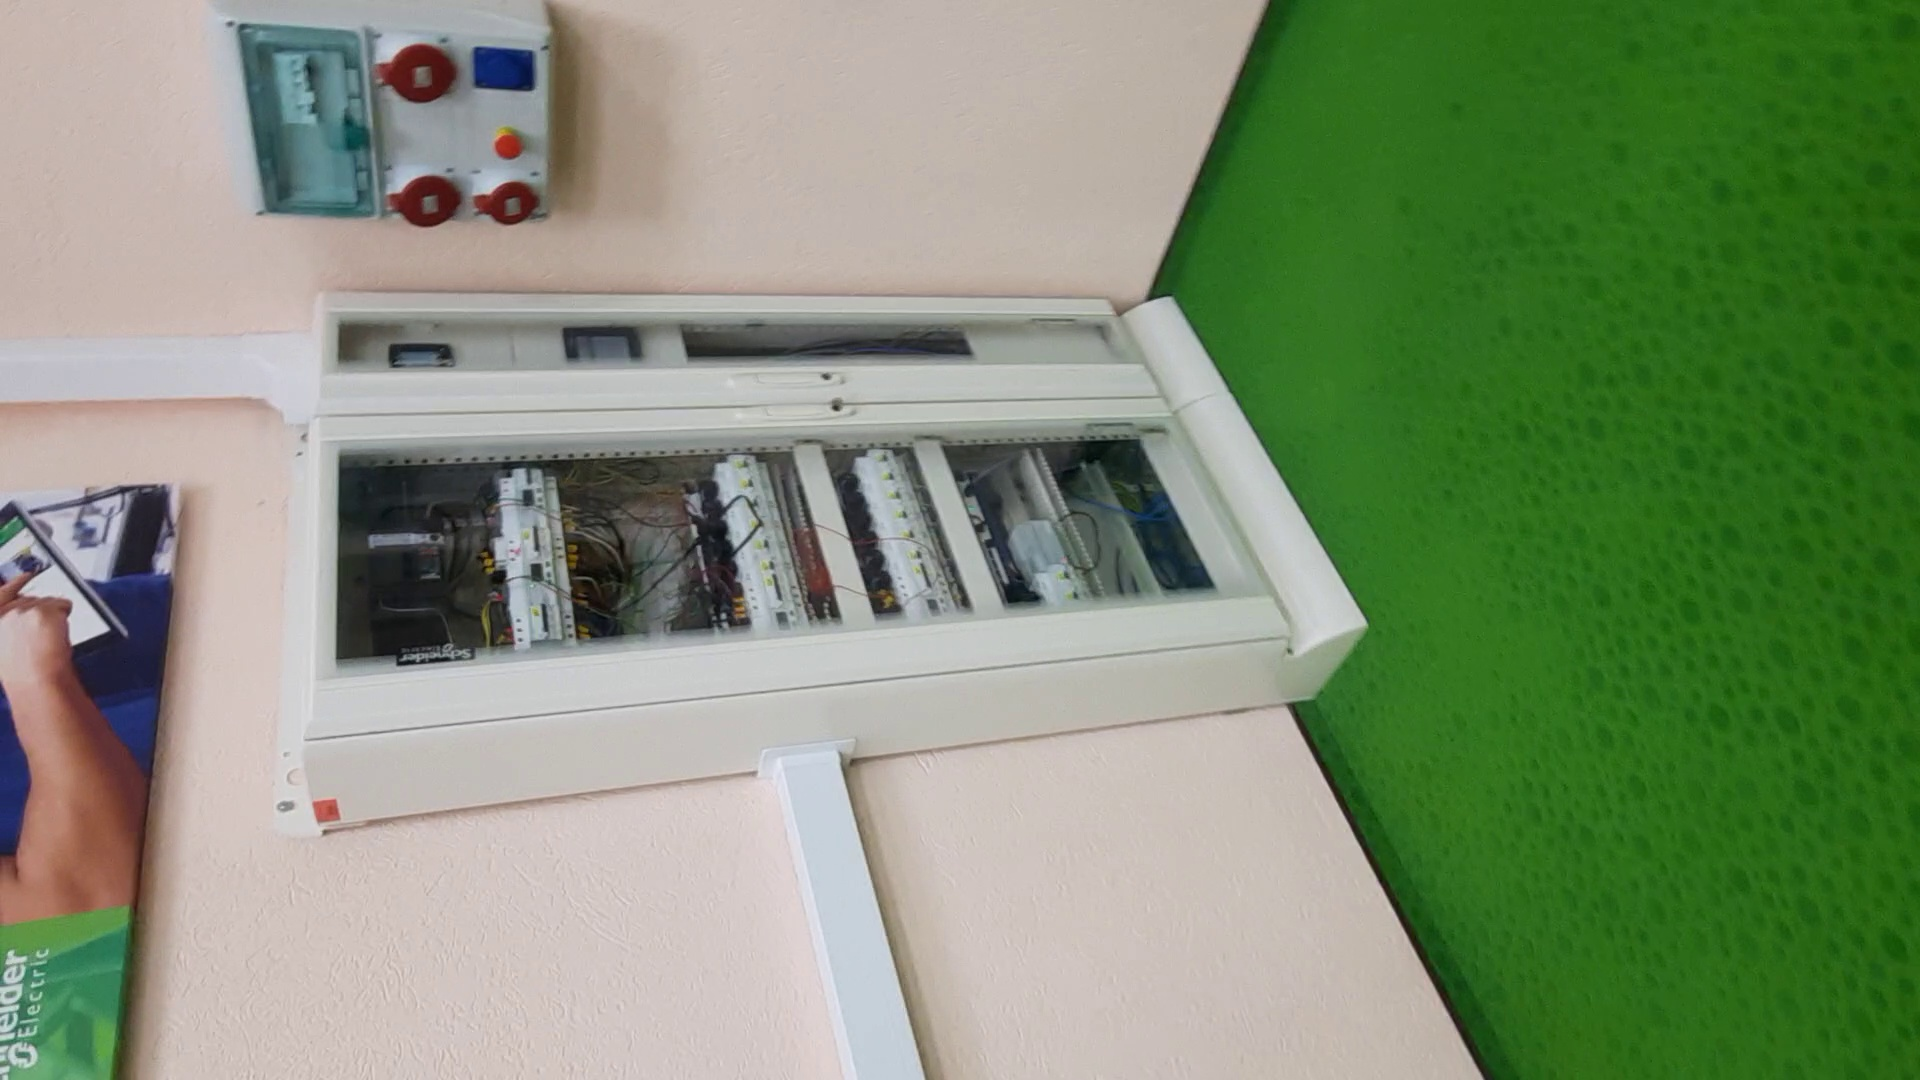stand1: (276, 278, 1374, 833)
